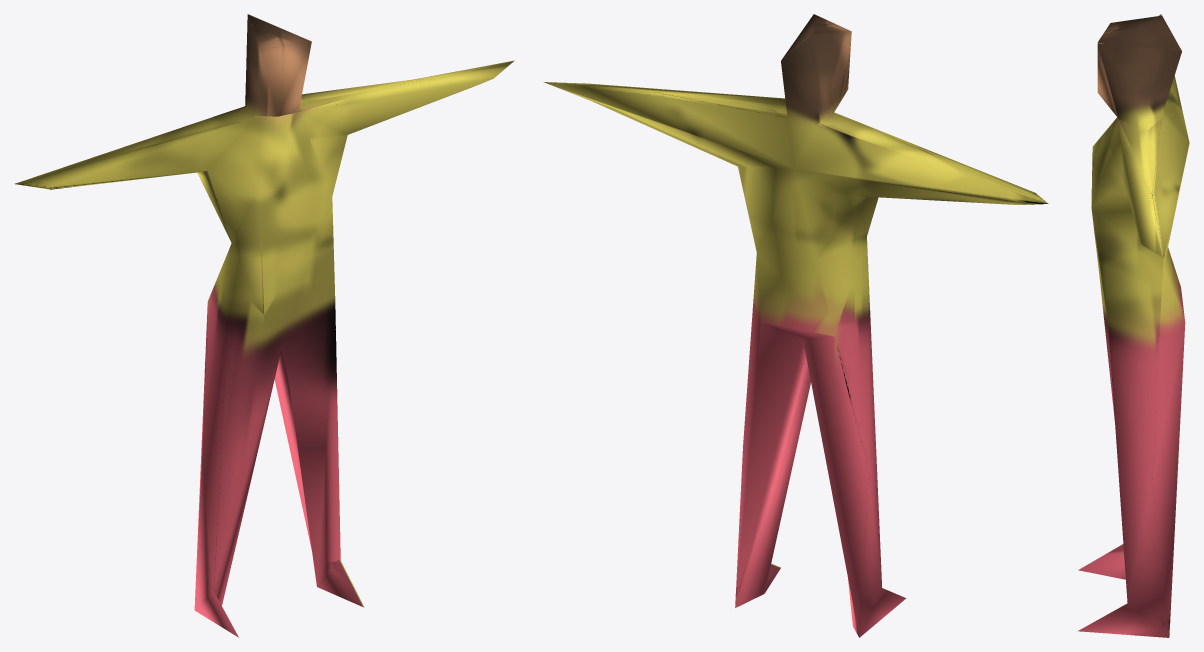
The model's file is humanmodel.obj.
The picture shows the model from 3 angles, left to right: view 1: azimuth 30°, elevation 25°; view 2: azimuth 150°, elevation 25°; view 3: azimuth 270°, elevation 25°; orthographic projection.
Visible parts, largest first — view 1: human_humanmodel; view 2: human_humanmodel; view 3: human_humanmodel.
Part boxes in pixels (x1,y1,x2,y2): human_humanmodel: (15, 14, 514, 637); human_humanmodel: (544, 14, 1048, 637); human_humanmodel: (1078, 14, 1189, 637).
Size of the model in its own units: 1.66 by 1.86 by 0.322.
1 material, 1 textured.
